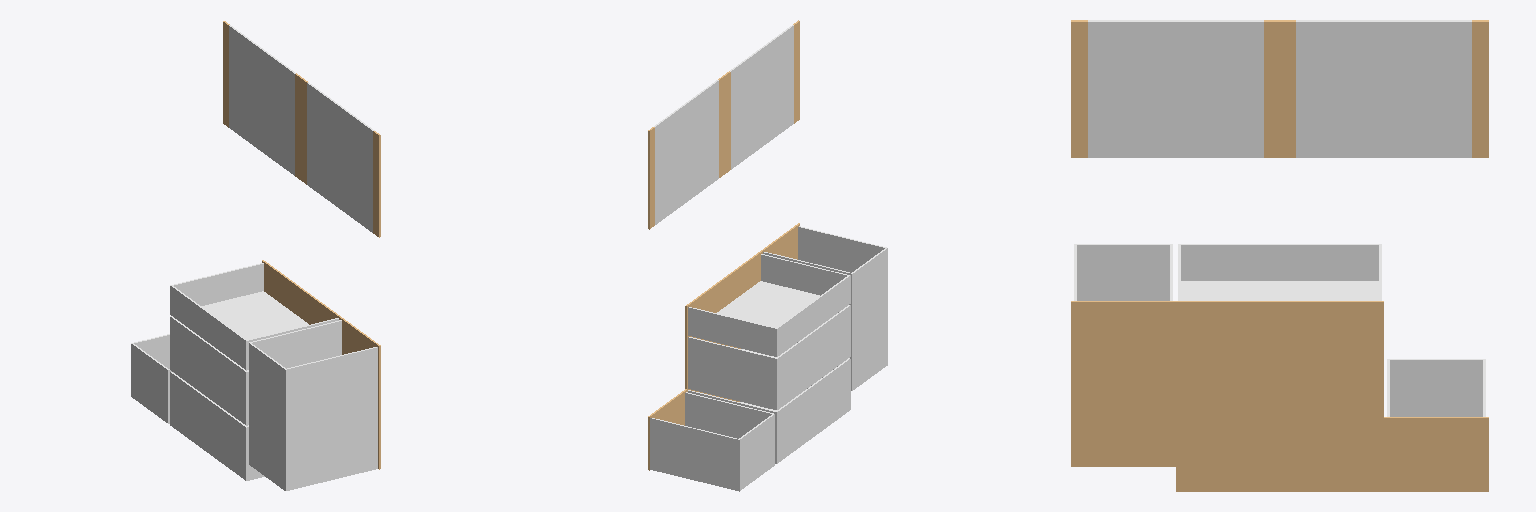
robot.urdf — room610-cupboard:
<?xml version="1.0"?>
<robot name="room610-cupboard"
       xmlns:xi="http://www.w3.org/2001/XInclude"
       xmlns:gazebo="http://playerstage.sourceforge.net/gazebo/xmlschema/#gz"
       xmlns:model="http://playerstage.sourceforge.net/gazebo/xmlschema/#model"
       xmlns:sensor="http://playerstage.sourceforge.net/gazebo/xmlschema/#sensor"
       xmlns:body="http://playerstage.sourceforge.net/gazebo/xmlschema/#body"
       xmlns:geom="http://playerstage.sourceforge.net/gazebo/xmlschema/#geom"
       xmlns:joint="http://playerstage.sourceforge.net/gazebo/xmlschema/#joint"
       xmlns:interface="http://playerstage.sourceforge.net/gazebo/xmlschema/#interface"
       xmlns:rendering="http://playerstage.sourceforge.net/gazebo/xmlschema/#rendering"
       xmlns:renderable="http://playerstage.sourceforge.net/gazebo/xmlschema/#renderable"
       xmlns:controller="http://playerstage.sourceforge.net/gazebo/xmlschema/#controller"
       xmlns:physics="http://playerstage.sourceforge.net/gazebo/xmlschema/#physics">
  <gazebo>
    <static>false</static>
  </gazebo>
  <link name="ROOT_link">
    <visual>
      <origin xyz="0 0 0" rpy="0 -0 0"/>
      <geometry>
        <mesh filename="model://room610-cupboard/meshes/ROOT_link_mesh.dae" scale="1 1 1" />
      </geometry>
    </visual>
    <collision>
      <origin xyz="0 0 0" rpy="0 -0 0"/>
      <geometry>
        <mesh filename="model://room610-cupboard/meshes/ROOT_link_mesh.dae" scale="1 1 1" />
      </geometry>
    </collision>
    <inertial>
      <mass value="0.001" />
      <origin xyz="0 0 0" rpy="0 -0 0"/>
      <inertia ixx="1e-09" ixy="0" ixz="0" iyy="1e-09" iyz="0" izz="1e-09"/>
    </inertial>
  </link>
  <gazebo reference="ROOT_link">
    <mu1>0.9</mu1>
    <mu2>0.9</mu2>
  </gazebo>
  <link name="ROOM610-CUPBOARD-BODYSET2_link">
    <visual>
      <origin xyz="0.267 0.763 1.355" rpy="0 -0 0"/>
      <geometry>
        <mesh filename="model://room610-cupboard/meshes/ROOM610-CUPBOARD-BODYSET2_link_mesh.dae" scale="1 1 1" />
      </geometry>
    </visual>
    <collision>
      <origin xyz="0.267 0.763 1.355" rpy="0 -0 0"/>
      <geometry>
        <mesh filename="model://room610-cupboard/meshes/ROOM610-CUPBOARD-BODYSET2_link_mesh.dae" scale="1 1 1" />
      </geometry>
    </collision>
    <inertial>
      <mass value="0.001" />
      <origin xyz="0 0 0" rpy="0 -0 0"/>
      <inertia ixx="1e-09" ixy="0" ixz="0" iyy="1e-09" iyz="0" izz="1e-09"/>
    </inertial>
  </link>
  <gazebo reference="ROOM610-CUPBOARD-BODYSET2_link">
    <mu1>0.9</mu1>
    <mu2>0.9</mu2>
  </gazebo>
  <link name="ROOM610-CUPBOARD-BODYSET3_link">
    <visual>
      <origin xyz="0.267 -0.763 1.355" rpy="0 -0 0"/>
      <geometry>
        <mesh filename="model://room610-cupboard/meshes/ROOM610-CUPBOARD-BODYSET3_link_mesh.dae" scale="1 1 1" />
      </geometry>
    </visual>
    <collision>
      <origin xyz="0.267 -0.763 1.355" rpy="0 -0 0"/>
      <geometry>
        <mesh filename="model://room610-cupboard/meshes/ROOM610-CUPBOARD-BODYSET3_link_mesh.dae" scale="1 1 1" />
      </geometry>
    </collision>
    <inertial>
      <mass value="0.001" />
      <origin xyz="0 0 0" rpy="0 -0 0"/>
      <inertia ixx="1e-09" ixy="0" ixz="0" iyy="1e-09" iyz="0" izz="1e-09"/>
    </inertial>
  </link>
  <gazebo reference="ROOM610-CUPBOARD-BODYSET3_link">
    <mu1>0.9</mu1>
    <mu2>0.9</mu2>
  </gazebo>
  <link name="ROOM610-CUPBOARD-BODYSET8_link">
    <visual>
      <origin xyz="0 0 0.145" rpy="0 -0 0"/>
      <geometry>
        <mesh filename="model://room610-cupboard/meshes/ROOM610-CUPBOARD-BODYSET8_link_mesh.dae" scale="1 1 1" />
      </geometry>
    </visual>
    <collision>
      <origin xyz="0 0 0.145" rpy="0 -0 0"/>
      <geometry>
        <mesh filename="model://room610-cupboard/meshes/ROOM610-CUPBOARD-BODYSET8_link_mesh.dae" scale="1 1 1" />
      </geometry>
    </collision>
    <inertial>
      <mass value="0.001" />
      <origin xyz="0 0 0" rpy="0 -0 0"/>
      <inertia ixx="1e-09" ixy="0" ixz="0" iyy="1e-09" iyz="0" izz="1e-09"/>
    </inertial>
  </link>
  <gazebo reference="ROOM610-CUPBOARD-BODYSET8_link">
    <mu1>0.9</mu1>
    <mu2>0.9</mu2>
  </gazebo>
  <link name="ROOM610-CUPBOARD-BODYSET7_link">
    <visual>
      <origin xyz="0 0 0.445" rpy="0 -0 0"/>
      <geometry>
        <mesh filename="model://room610-cupboard/meshes/ROOM610-CUPBOARD-BODYSET7_link_mesh.dae" scale="1 1 1" />
      </geometry>
    </visual>
    <collision>
      <origin xyz="0 0 0.445" rpy="0 -0 0"/>
      <geometry>
        <mesh filename="model://room610-cupboard/meshes/ROOM610-CUPBOARD-BODYSET7_link_mesh.dae" scale="1 1 1" />
      </geometry>
    </collision>
    <inertial>
      <mass value="0.001" />
      <origin xyz="0 0 0" rpy="0 -0 0"/>
      <inertia ixx="1e-09" ixy="0" ixz="0" iyy="1e-09" iyz="0" izz="1e-09"/>
    </inertial>
  </link>
  <gazebo reference="ROOM610-CUPBOARD-BODYSET7_link">
    <mu1>0.9</mu1>
    <mu2>0.9</mu2>
  </gazebo>
  <link name="ROOM610-CUPBOARD-BODYSET6_link">
    <visual>
      <origin xyz="0 0 0.679" rpy="0 -0 0"/>
      <geometry>
        <mesh filename="model://room610-cupboard/meshes/ROOM610-CUPBOARD-BODYSET6_link_mesh.dae" scale="1 1 1" />
      </geometry>
    </visual>
    <collision>
      <origin xyz="0 0 0.679" rpy="0 -0 0"/>
      <geometry>
        <mesh filename="model://room610-cupboard/meshes/ROOM610-CUPBOARD-BODYSET6_link_mesh.dae" scale="1 1 1" />
      </geometry>
    </collision>
    <inertial>
      <mass value="0.001" />
      <origin xyz="0 0 0" rpy="0 -0 0"/>
      <inertia ixx="1e-09" ixy="0" ixz="0" iyy="1e-09" iyz="0" izz="1e-09"/>
    </inertial>
  </link>
  <gazebo reference="ROOM610-CUPBOARD-BODYSET6_link">
    <mu1>0.9</mu1>
    <mu2>0.9</mu2>
  </gazebo>
  <link name="ROOM610-CUPBOARD-BODYSET5_link">
    <visual>
      <origin xyz="0 -0.576 0.429" rpy="0 -0 0"/>
      <geometry>
        <mesh filename="model://room610-cupboard/meshes/ROOM610-CUPBOARD-BODYSET5_link_mesh.dae" scale="1 1 1" />
      </geometry>
    </visual>
    <collision>
      <origin xyz="0 -0.576 0.429" rpy="0 -0 0"/>
      <geometry>
        <mesh filename="model://room610-cupboard/meshes/ROOM610-CUPBOARD-BODYSET5_link_mesh.dae" scale="1 1 1" />
      </geometry>
    </collision>
    <inertial>
      <mass value="0.001" />
      <origin xyz="0 0 0" rpy="0 -0 0"/>
      <inertia ixx="1e-09" ixy="0" ixz="0" iyy="1e-09" iyz="0" izz="1e-09"/>
    </inertial>
  </link>
  <gazebo reference="ROOM610-CUPBOARD-BODYSET5_link">
    <mu1>0.9</mu1>
    <mu2>0.9</mu2>
  </gazebo>
  <link name="ROOM610-CUPBOARD-BODYSET4_link">
    <visual>
      <origin xyz="0 0.576 0.145" rpy="0 -0 0"/>
      <geometry>
        <mesh filename="model://room610-cupboard/meshes/ROOM610-CUPBOARD-BODYSET4_link_mesh.dae" scale="1 1 1" />
      </geometry>
    </visual>
    <collision>
      <origin xyz="0 0.576 0.145" rpy="0 -0 0"/>
      <geometry>
        <mesh filename="model://room610-cupboard/meshes/ROOM610-CUPBOARD-BODYSET4_link_mesh.dae" scale="1 1 1" />
      </geometry>
    </collision>
    <inertial>
      <mass value="0.001" />
      <origin xyz="0 0 0" rpy="0 -0 0"/>
      <inertia ixx="1e-09" ixy="0" ixz="0" iyy="1e-09" iyz="0" izz="1e-09"/>
    </inertial>
  </link>
  <gazebo reference="ROOM610-CUPBOARD-BODYSET4_link">
    <mu1>0.9</mu1>
    <mu2>0.9</mu2>
  </gazebo>
  <joint name="DOOR-UPPER-LEFT" type="revolute">
    <parent link="ROOT_link"/>
    <child  link="ROOM610-CUPBOARD-BODYSET2_link"/>
    <origin xyz="0.267 0.763 1.355" rpy="0 -0 0 "/>
    <axis   xyz="0 0 1"/>
    <limit lower="0" upper="1.5708" effort="100" velocity="0.5" />
    <dynamics damping="0.2" friction="0" />
  </joint>
  <transmission type="pr2_mechanism_model/SimpleTransmission" name="DOOR-UPPER-LEFT_trans" >
    <actuator name="DOOR-UPPER-LEFT_motor" />
    <joint name="DOOR-UPPER-LEFT" />
    <mechanicalReduction>1</mechanicalReduction>
  </transmission>
  <gazebo reference="DOOR-UPPER-LEFT">
    <cfmDamping>0.4</cfmDamping>
  </gazebo>
  <joint name="DOOR-UPPER-RIGHT" type="revolute">
    <parent link="ROOT_link"/>
    <child  link="ROOM610-CUPBOARD-BODYSET3_link"/>
    <origin xyz="0.267 -0.763 1.355" rpy="0 -0 0 "/>
    <axis   xyz="0 0 -1"/>
    <limit lower="0" upper="1.5708" effort="100" velocity="0.5" />
    <dynamics damping="0.2" friction="0" />
  </joint>
  <transmission type="pr2_mechanism_model/SimpleTransmission" name="DOOR-UPPER-RIGHT_trans" >
    <actuator name="DOOR-UPPER-RIGHT_motor" />
    <joint name="DOOR-UPPER-RIGHT" />
    <mechanicalReduction>1</mechanicalReduction>
  </transmission>
  <gazebo reference="DOOR-UPPER-RIGHT">
    <cfmDamping>0.4</cfmDamping>
  </gazebo>
  <joint name="DRAWER0" type="prismatic">
    <parent link="ROOT_link"/>
    <child  link="ROOM610-CUPBOARD-BODYSET8_link"/>
    <origin xyz="0 0 0.145" rpy="0 -0 0 "/>
    <axis   xyz="1 0 0"/>
    <limit lower="0" upper="0.544" effort="100" velocity="0.01" />
    <dynamics damping="0.2" friction="0" />
  </joint>
  <transmission type="pr2_mechanism_model/SimpleTransmission" name="DRAWER0_trans" >
    <actuator name="DRAWER0_motor" />
    <joint name="DRAWER0" />
    <mechanicalReduction>1</mechanicalReduction>
  </transmission>
  <gazebo reference="DRAWER0">
    <cfmDamping>0.4</cfmDamping>
  </gazebo>
  <joint name="DRAWER1" type="prismatic">
    <parent link="ROOT_link"/>
    <child  link="ROOM610-CUPBOARD-BODYSET7_link"/>
    <origin xyz="0 0 0.445" rpy="0 -0 0 "/>
    <axis   xyz="1 0 0"/>
    <limit lower="0" upper="0.544" effort="100" velocity="0.01" />
    <dynamics damping="0.2" friction="0" />
  </joint>
  <transmission type="pr2_mechanism_model/SimpleTransmission" name="DRAWER1_trans" >
    <actuator name="DRAWER1_motor" />
    <joint name="DRAWER1" />
    <mechanicalReduction>1</mechanicalReduction>
  </transmission>
  <gazebo reference="DRAWER1">
    <cfmDamping>0.4</cfmDamping>
  </gazebo>
  <joint name="DRAWER2" type="prismatic">
    <parent link="ROOT_link"/>
    <child  link="ROOM610-CUPBOARD-BODYSET6_link"/>
    <origin xyz="0 0 0.679" rpy="0 -0 0 "/>
    <axis   xyz="1 0 0"/>
    <limit lower="0" upper="0.544" effort="100" velocity="0.01" />
    <dynamics damping="0.2" friction="0" />
  </joint>
  <transmission type="pr2_mechanism_model/SimpleTransmission" name="DRAWER2_trans" >
    <actuator name="DRAWER2_motor" />
    <joint name="DRAWER2" />
    <mechanicalReduction>1</mechanicalReduction>
  </transmission>
  <gazebo reference="DRAWER2">
    <cfmDamping>0.4</cfmDamping>
  </gazebo>
  <joint name="DRAWER3" type="prismatic">
    <parent link="ROOT_link"/>
    <child  link="ROOM610-CUPBOARD-BODYSET5_link"/>
    <origin xyz="0 -0.576 0.429" rpy="0 -0 0 "/>
    <axis   xyz="1 0 0"/>
    <limit lower="0" upper="0.544" effort="100" velocity="0.01" />
    <dynamics damping="0.2" friction="0" />
  </joint>
  <transmission type="pr2_mechanism_model/SimpleTransmission" name="DRAWER3_trans" >
    <actuator name="DRAWER3_motor" />
    <joint name="DRAWER3" />
    <mechanicalReduction>1</mechanicalReduction>
  </transmission>
  <gazebo reference="DRAWER3">
    <cfmDamping>0.4</cfmDamping>
  </gazebo>
  <joint name="DRAWER4" type="prismatic">
    <parent link="ROOT_link"/>
    <child  link="ROOM610-CUPBOARD-BODYSET4_link"/>
    <origin xyz="0 0.576 0.145" rpy="0 -0 0 "/>
    <axis   xyz="1 0 0"/>
    <limit lower="0" upper="0.544" effort="100" velocity="0.01" />
    <dynamics damping="0.2" friction="0" />
  </joint>
  <transmission type="pr2_mechanism_model/SimpleTransmission" name="DRAWER4_trans" >
    <actuator name="DRAWER4_motor" />
    <joint name="DRAWER4" />
    <mechanicalReduction>1</mechanicalReduction>
  </transmission>
  <gazebo reference="DRAWER4">
    <cfmDamping>0.4</cfmDamping>
  </gazebo>
</robot>

--- What the picture shows (computed from the rendered views, not written in the file) ---
Views: 3 orthographic renders of the robot side by side, from view 1: azimuth 30°, elevation 25°; view 2: azimuth 150°, elevation 25°; view 3: azimuth 270°, elevation 25°.
Robot: room610-cupboard — 8 links, 7 joints (2 revolute, 5 prismatic); root link ROOT_link; default pose: every joint at zero.
Visible links, largest first — view 1: ROOM610-CUPBOARD-BODYSET5_link, ROOM610-CUPBOARD-BODYSET6_link, ROOM610-CUPBOARD-BODYSET3_link, ROOM610-CUPBOARD-BODYSET2_link, ROOM610-CUPBOARD-BODYSET8_link, ROOM610-CUPBOARD-BODYSET7_link, ROOM610-CUPBOARD-BODYSET4_link; view 2: ROOM610-CUPBOARD-BODYSET6_link, ROOM610-CUPBOARD-BODYSET4_link, ROOM610-CUPBOARD-BODYSET7_link, ROOM610-CUPBOARD-BODYSET5_link, ROOM610-CUPBOARD-BODYSET2_link, ROOM610-CUPBOARD-BODYSET3_link, ROOM610-CUPBOARD-BODYSET8_link; view 3: ROOM610-CUPBOARD-BODYSET2_link, ROOM610-CUPBOARD-BODYSET3_link, ROOM610-CUPBOARD-BODYSET5_link, ROOM610-CUPBOARD-BODYSET6_link, ROOM610-CUPBOARD-BODYSET8_link, ROOM610-CUPBOARD-BODYSET7_link, ROOM610-CUPBOARD-BODYSET4_link.
Link boxes in pixels (bbox=[...]): ROOM610-CUPBOARD-BODYSET5_link: bbox=[249, 317, 380, 490]; ROOM610-CUPBOARD-BODYSET6_link: bbox=[170, 260, 340, 370]; ROOM610-CUPBOARD-BODYSET3_link: bbox=[301, 78, 380, 237]; ROOM610-CUPBOARD-BODYSET2_link: bbox=[223, 21, 301, 179]; ROOM610-CUPBOARD-BODYSET8_link: bbox=[170, 372, 264, 480]; ROOM610-CUPBOARD-BODYSET7_link: bbox=[170, 316, 248, 425]; ROOM610-CUPBOARD-BODYSET4_link: bbox=[131, 334, 171, 423]; ROOM610-CUPBOARD-BODYSET6_link: bbox=[685, 251, 850, 356]; ROOM610-CUPBOARD-BODYSET4_link: bbox=[648, 389, 774, 491]; ROOM610-CUPBOARD-BODYSET7_link: bbox=[685, 305, 850, 409]; ROOM610-CUPBOARD-BODYSET5_link: bbox=[761, 223, 887, 390]; ROOM610-CUPBOARD-BODYSET2_link: bbox=[648, 76, 724, 229]; ROOM610-CUPBOARD-BODYSET3_link: bbox=[723, 20, 799, 173]; ROOM610-CUPBOARD-BODYSET8_link: bbox=[687, 358, 850, 463]; ROOM610-CUPBOARD-BODYSET2_link: bbox=[1280, 20, 1488, 157]; ROOM610-CUPBOARD-BODYSET3_link: bbox=[1071, 20, 1279, 157]; ROOM610-CUPBOARD-BODYSET5_link: bbox=[1071, 244, 1175, 466]; ROOM610-CUPBOARD-BODYSET6_link: bbox=[1176, 244, 1383, 343]; ROOM610-CUPBOARD-BODYSET8_link: bbox=[1176, 418, 1383, 491]; ROOM610-CUPBOARD-BODYSET7_link: bbox=[1176, 344, 1383, 417]; ROOM610-CUPBOARD-BODYSET4_link: bbox=[1384, 359, 1488, 491].
Size in the robot's own frame: 0.534 by 1.54 by 1.91 metres.
7 mesh visuals loaded from 8 distinct referenced files (7 Collada DAE); not drawn: 1 (reference not matched to a file when rendering).
